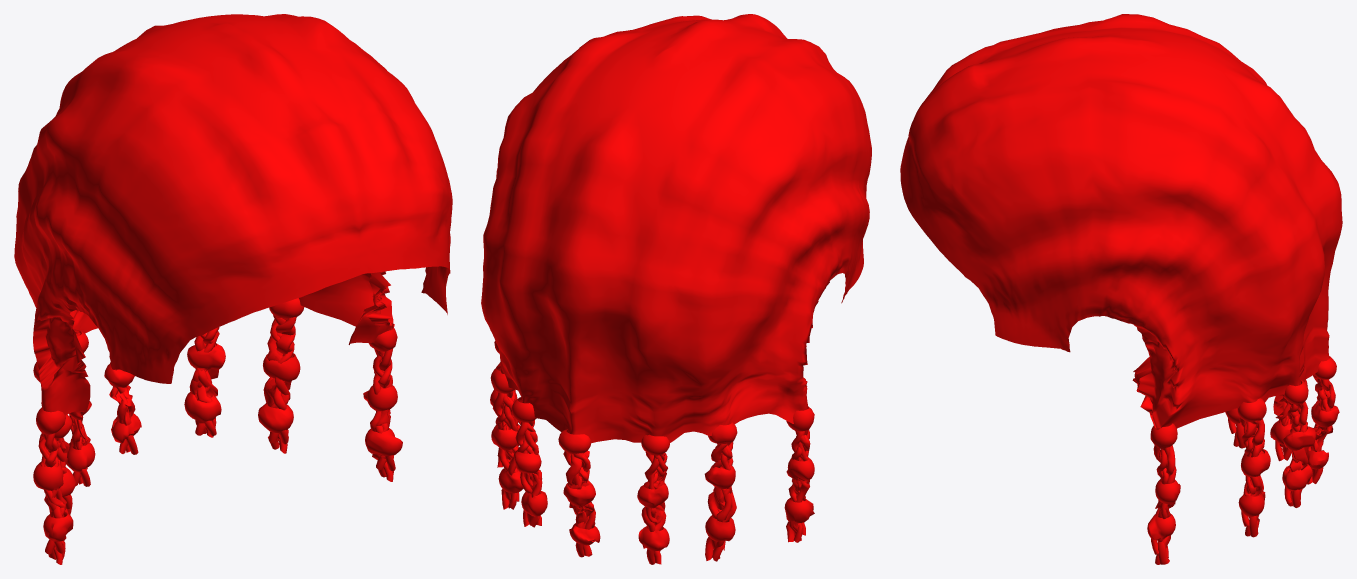
The model's file is elvs_braided_rows_M.glb.
3 renders of one model, left to right at view 1: azimuth 30°, elevation 25°; view 2: azimuth 150°, elevation 25°; view 3: azimuth 270°, elevation 25°, orthographic. The views are drawn at different scales.
Size of the model in its own units: 0.1842 by 0.2486 by 0.2194.
Materials: 1 (1 with a texture image).
